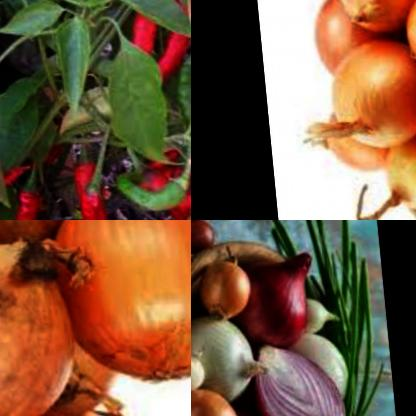hot pepper: (117, 143, 191, 220), (103, 160, 191, 220), (137, 0, 191, 88), (113, 0, 171, 78), (0, 178, 94, 220), (52, 160, 115, 220)
onion: (43, 220, 191, 397), (0, 224, 100, 416), (316, 36, 416, 160), (238, 241, 321, 353), (244, 335, 345, 416), (191, 317, 268, 400), (310, 110, 400, 178), (303, 0, 378, 81), (290, 325, 355, 396), (317, 0, 416, 44), (194, 257, 253, 327), (369, 130, 416, 217), (0, 220, 89, 256), (285, 295, 342, 342), (393, 0, 416, 89), (401, 79, 416, 191), (191, 388, 251, 416), (191, 333, 212, 393), (191, 220, 218, 255)
